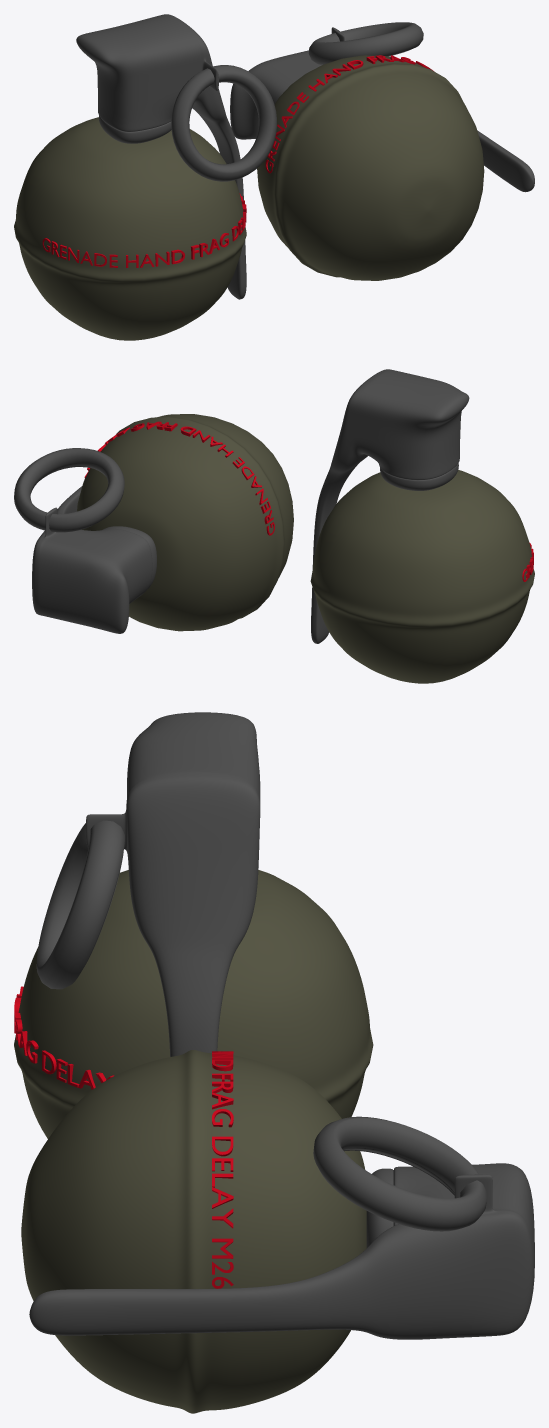
File: BOMM.fbx
3 renders of one model, top to bottom at view 1: azimuth 30°, elevation 25°; view 2: azimuth 150°, elevation 25°; view 3: azimuth 270°, elevation 25°, orthographic. The views are drawn at different scales.
Visible parts, largest first — view 1: Cube, Cube.001; view 2: Cube, Cube.001; view 3: Cube.001, Cube.
Boxes of the visible parts, x1,y1,x2,y2 form: Cube: (14, 14, 276, 340); Cube.001: (230, 22, 534, 280); Cube: (310, 369, 534, 683); Cube.001: (14, 414, 293, 633); Cube.001: (21, 1050, 534, 1413); Cube: (14, 712, 373, 1138).
Bounding box in the file's own units: 2.54 × 1.6 × 1.6.
